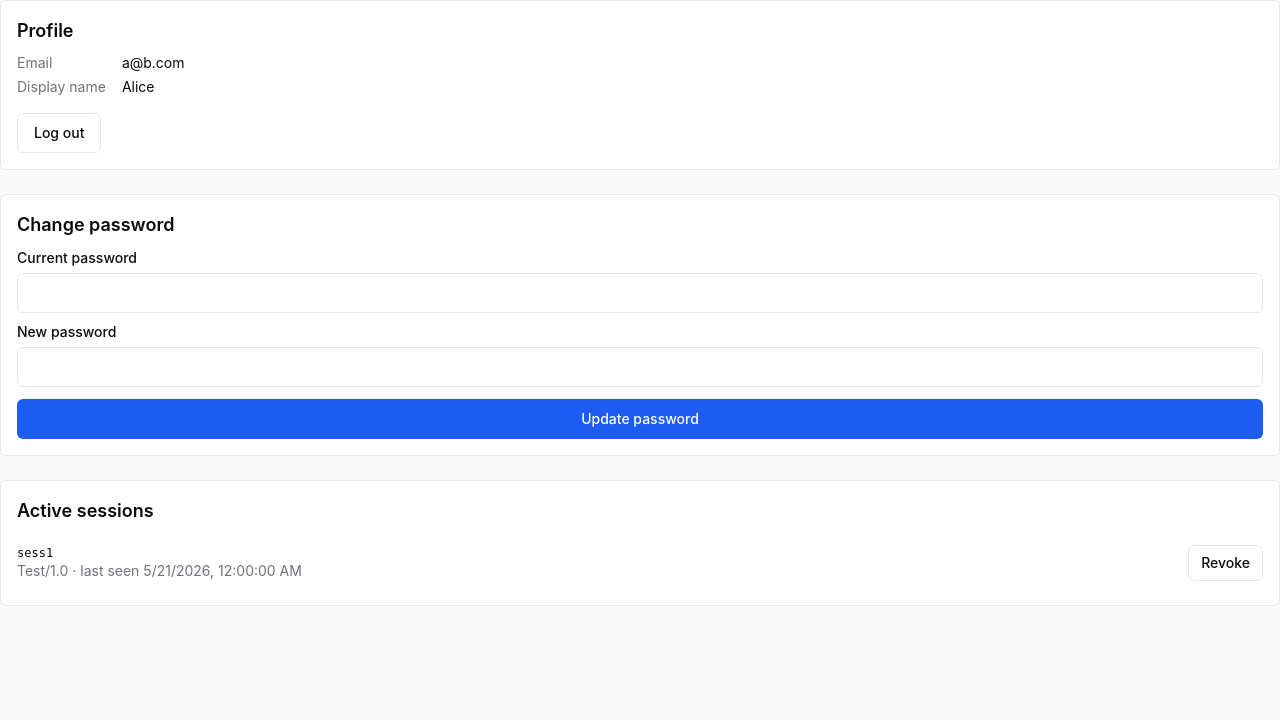
Test: AccountPanel › validates the new password locally
The image size is (1280, 720).
Type "old" into the password field labelled "Current password" at {"x": 640, "y": 293}, box x1=17 y1=273 x2=1263 y2=313
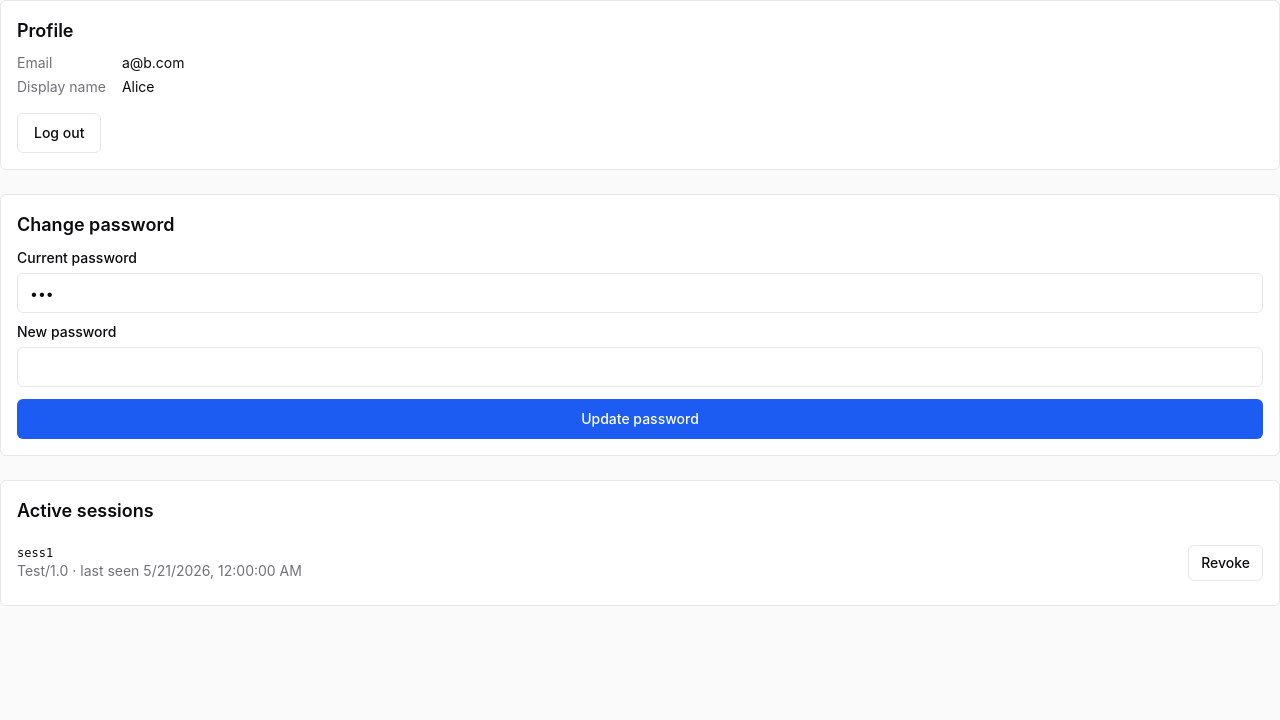
Type "tooshort" into the password field labelled "New password" at {"x": 640, "y": 367}, box x1=17 y1=347 x2=1263 y2=387
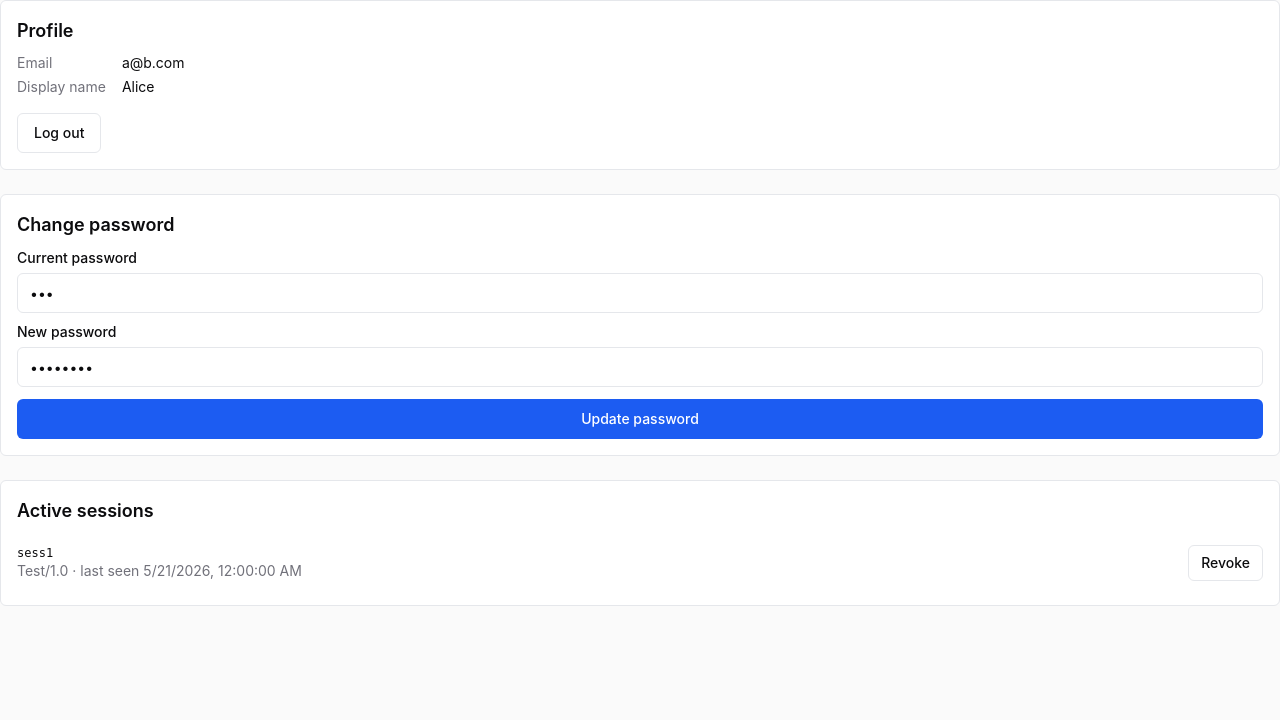
Click the button "Update password" at {"x": 640, "y": 419}, box x1=17 y1=399 x2=1263 y2=439
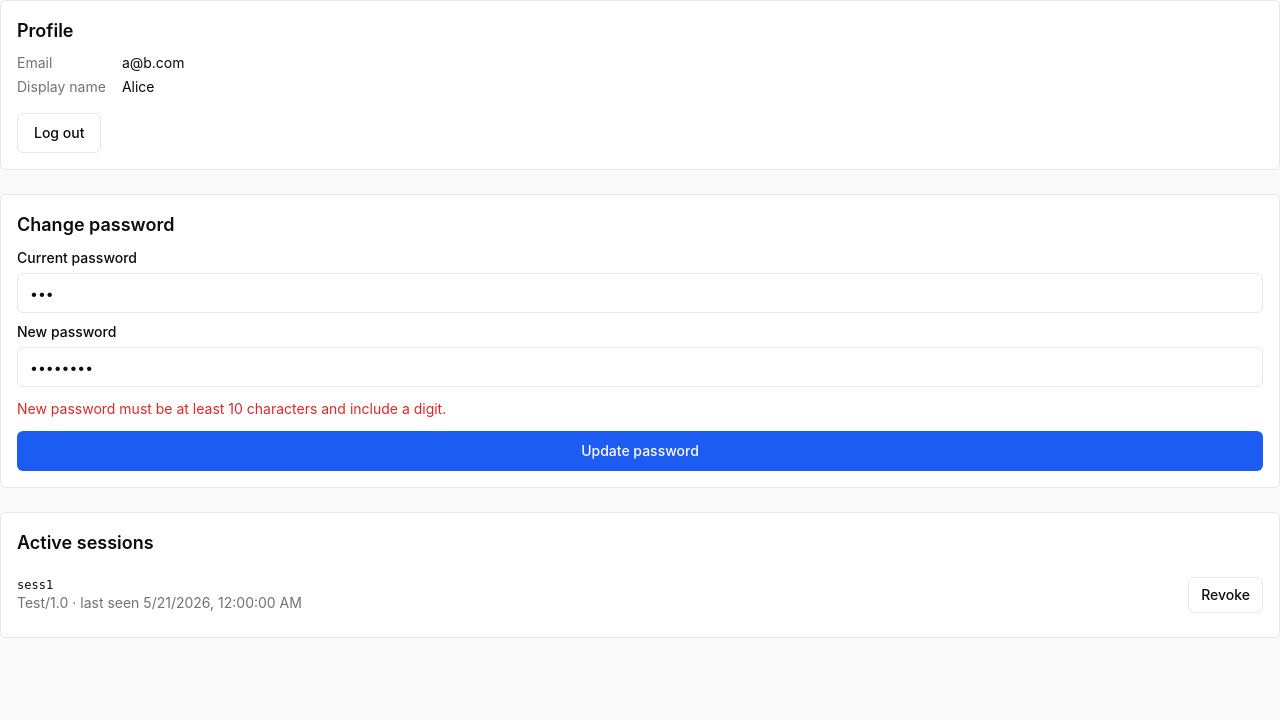
Expected: the text "New password must be at least 10 characters and include a digit." is shown, x1=17 y1=400 x2=446 y2=417
